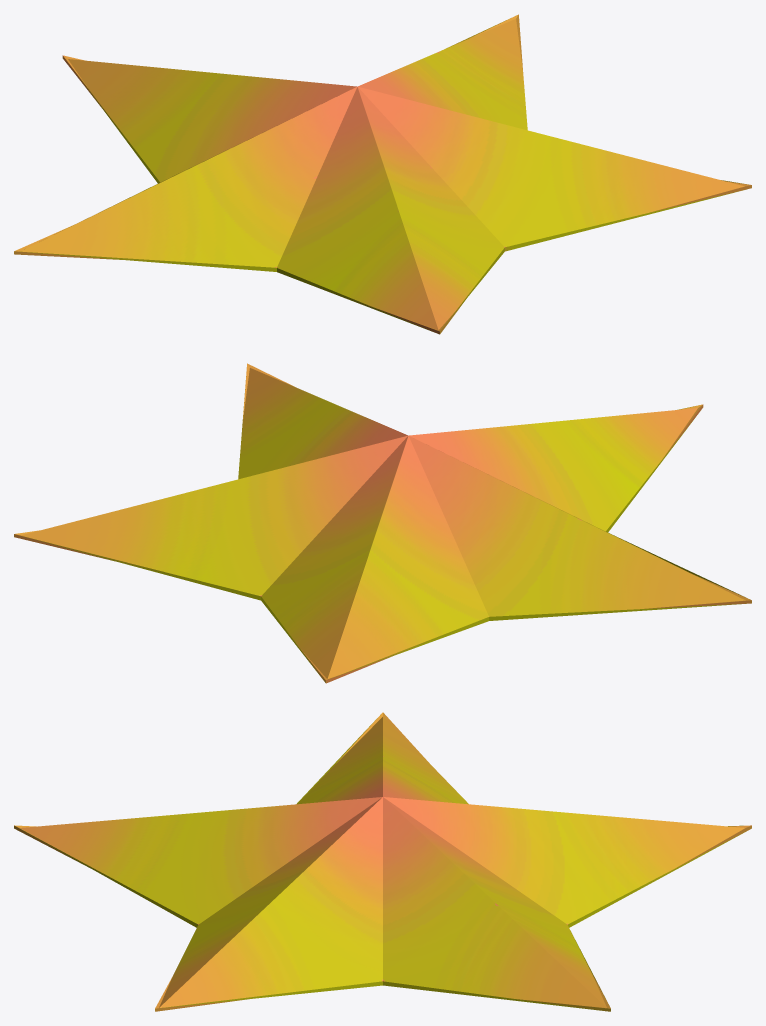
The model's file is jsstar.glb.
The picture shows the model from 3 angles, top to bottom: view 1: azimuth 30°, elevation 25°; view 2: azimuth 150°, elevation 25°; view 3: azimuth 270°, elevation 25°; orthographic projection. The views are drawn at different scales.
Parts seen in each view (by area): view 1: Star; view 2: Star; view 3: Star.
Part boxes in pixels (box(x1,y1,x2,y2)): Star: box(14, 14, 751, 334); Star: box(14, 363, 751, 683); Star: box(14, 712, 751, 1011).
Size of the model in its own units: 1.81 by 0.5 by 1.9.
1 material, 1 textured.
